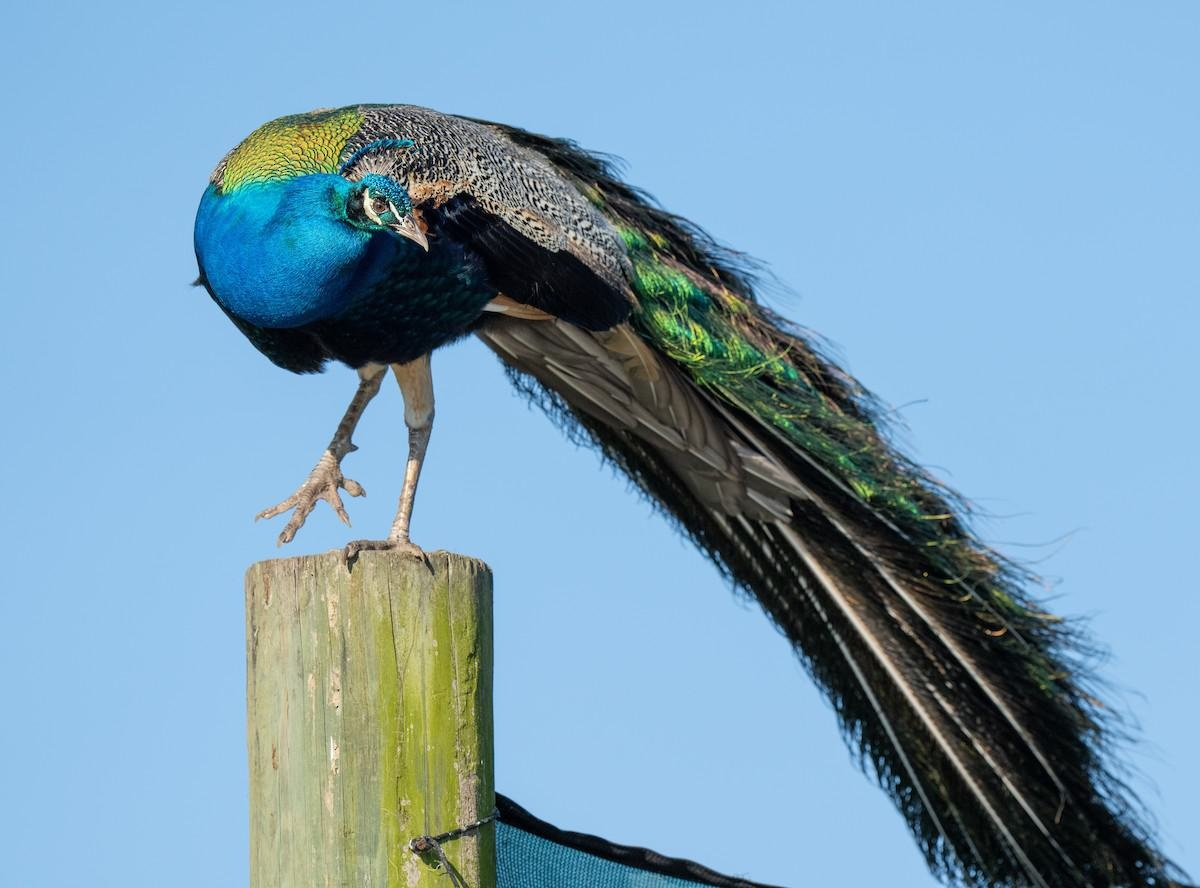peacock: (196, 104, 1128, 842)
